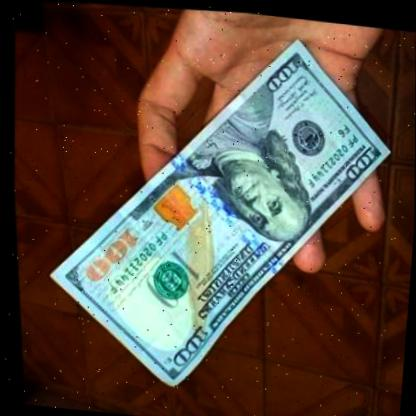one_hundred-front: (7, 0, 416, 416)
